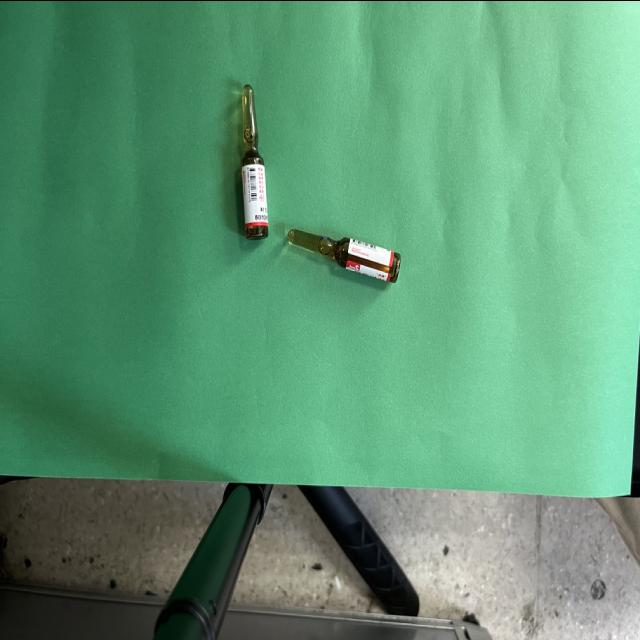Ampoules: (286, 227, 401, 282), (240, 83, 268, 239)
